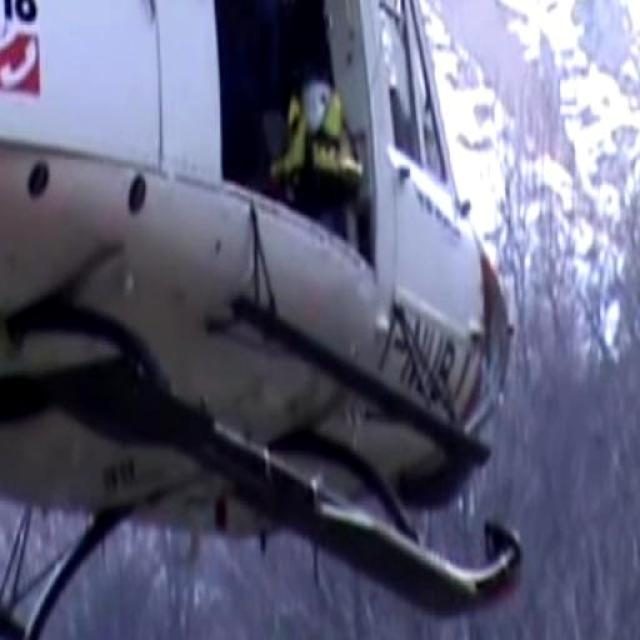drone: (0, 0, 545, 640)
